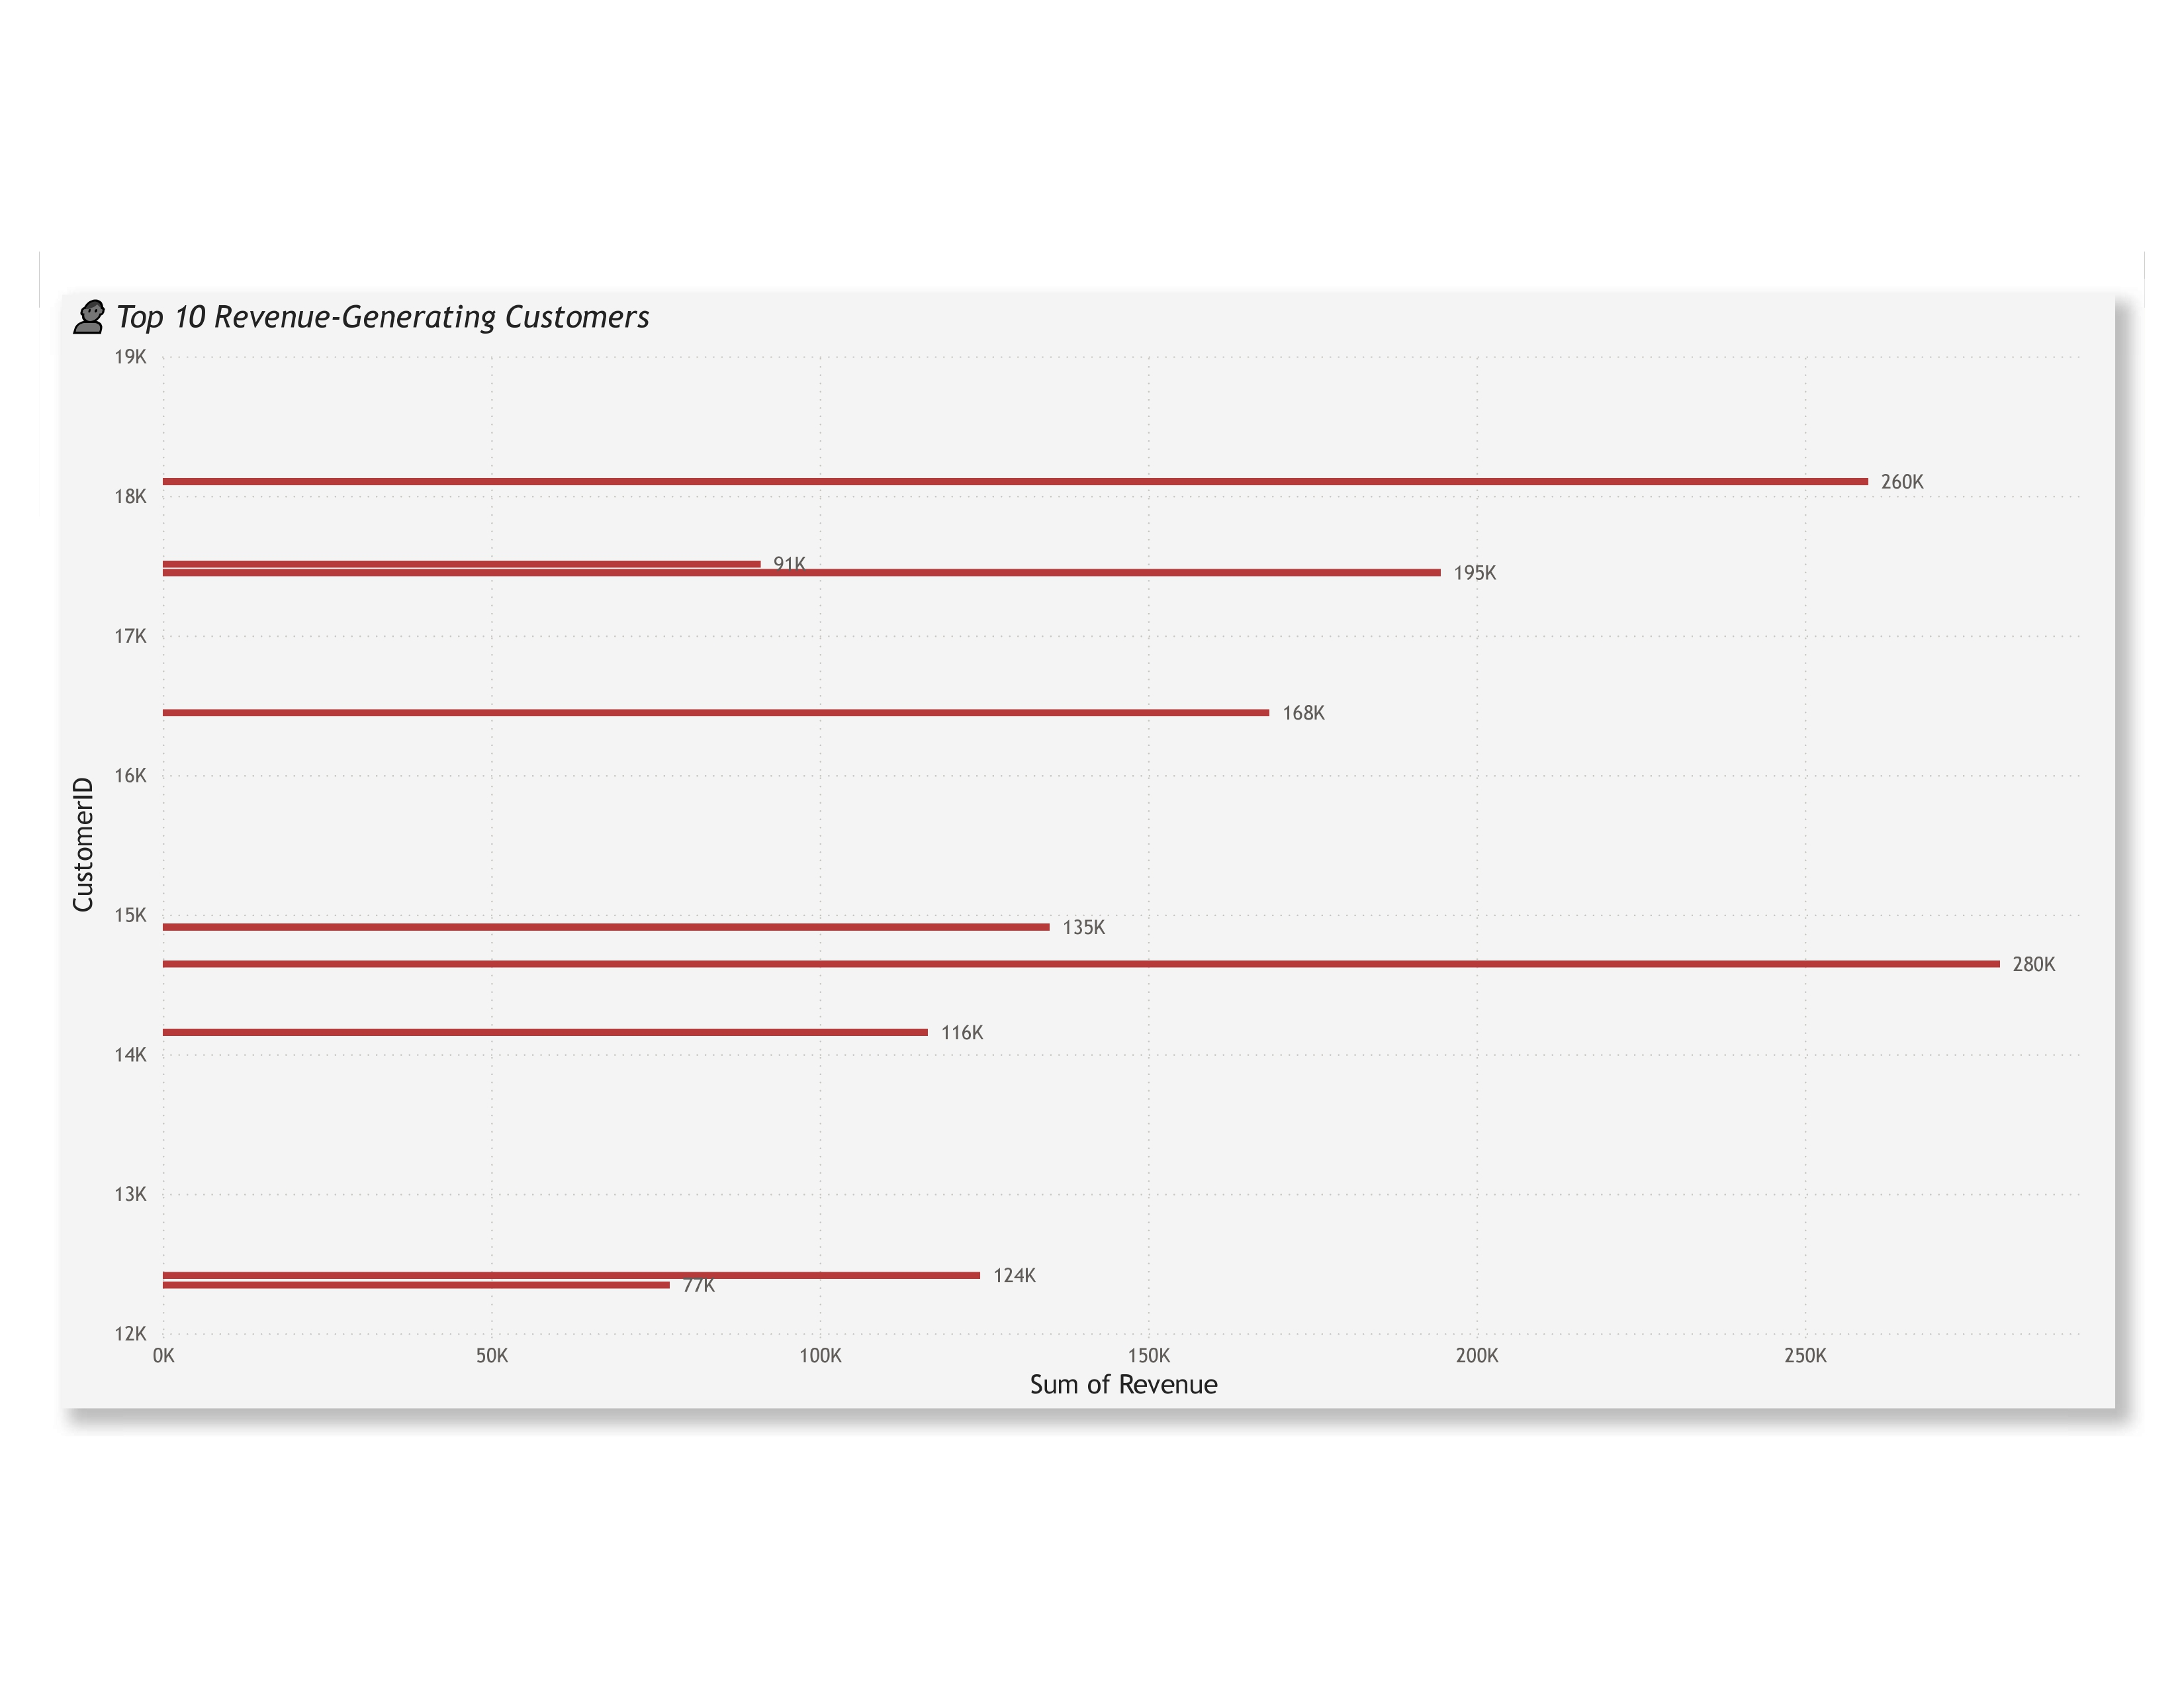

Layout of this report page (visuals, bound fields, positions):
{"tool":"powerbi","page":{"name":"Top Customers","canvas":[1280,720],"ordinal":1},"visuals":[{"type":"clusteredBarChart","title":"👤 Top 10 Revenue-Generating Customers","fields":{"Category":["Online Retail.CustomerID"],"Y":["Sum(Online Retail.Revenue)"]},"box":[14.1,26.4,1248.3,676.1],"z":0}]}

Visuals, with their boxes on the page's 1280x720 design canvas (x1, y1, x2, y2). These are canvas units, not pixel positions in the 2184x1688 screenshot, which may show the page scaled, cropped or inside an application window:
"👤 Top 10 Revenue-Generating Customers" clusteredBarChart: x1=14 y1=26 x2=1262 y2=702
